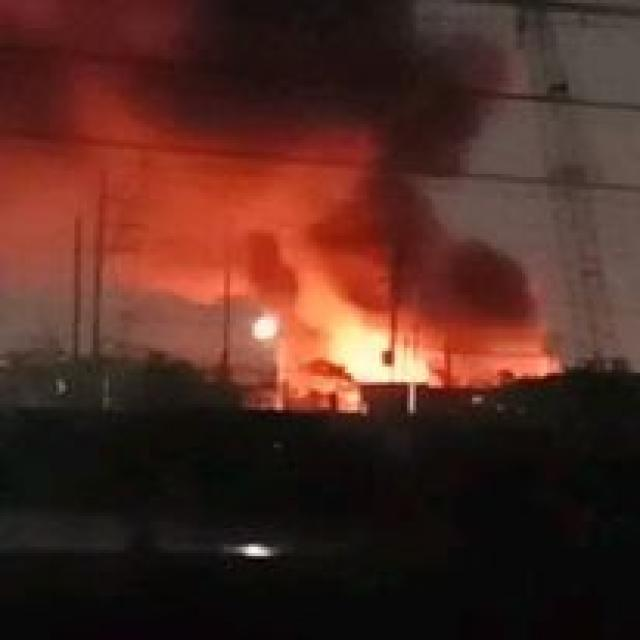Fire: (251, 333, 552, 396)
Smoke: (200, 0, 496, 241), (9, 4, 247, 296), (326, 160, 556, 350)
